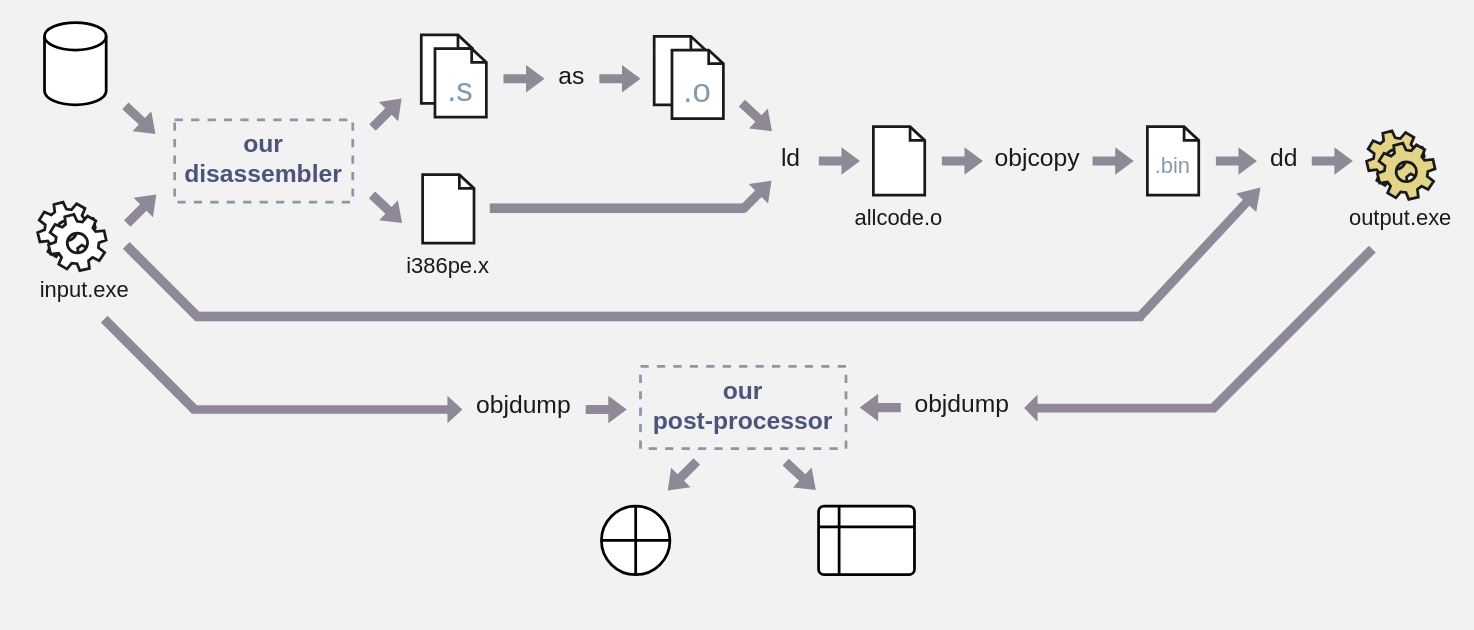
The diagram is 1474 pixels wide and 630 high, and some of its shapes have lost their labels. The box of each missing label's shape, as (x1, y1, x2, y2) in pixels:
knowledge database: (42, 21, 107, 105)
new knowledge: (817, 504, 915, 575)
pass/fail: (599, 504, 671, 575)
